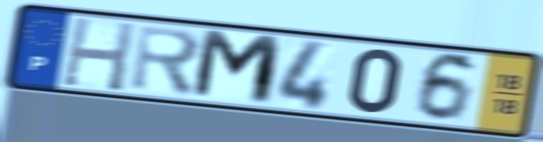0: (344, 47, 406, 116)
4: (275, 37, 332, 113)
6: (409, 50, 483, 127)
H: (58, 14, 139, 95)
M: (188, 26, 286, 109)
R: (127, 22, 206, 99)
